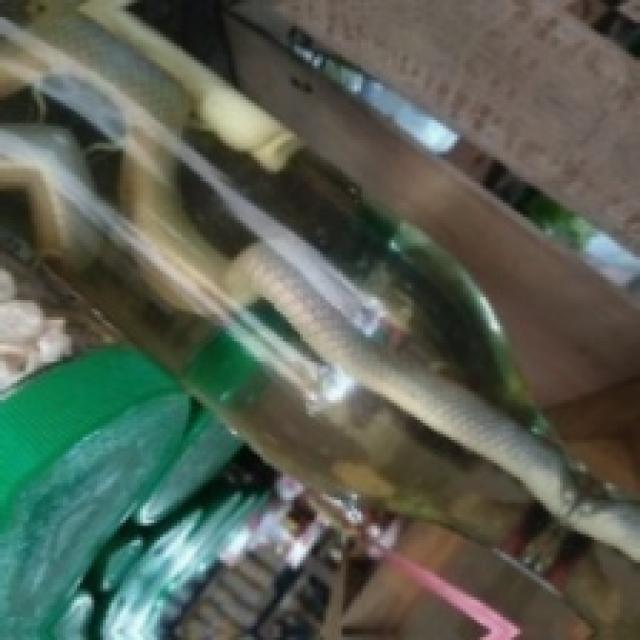gunthers philippine shrub snake: (0, 12, 640, 559)
